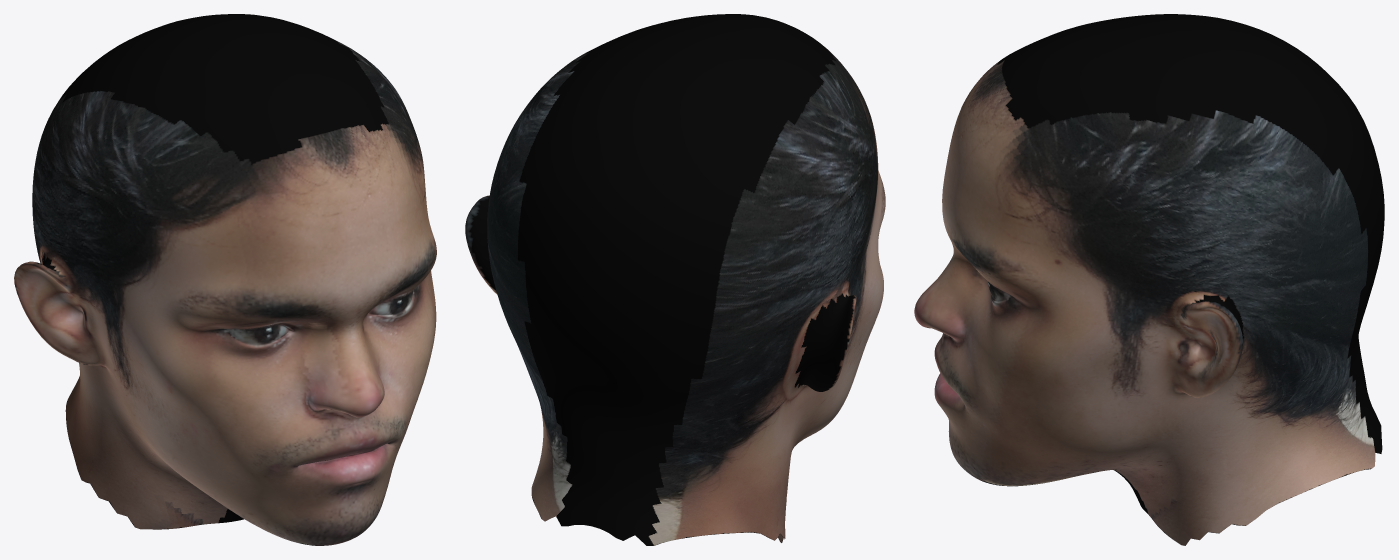
File: myface.glb
3 views of the same model, side by side, from view 1: azimuth 30°, elevation 25°; view 2: azimuth 150°, elevation 25°; view 3: azimuth 270°, elevation 25° (orthographic).
Parts seen in each view (by area): view 1: FaceBuilderHead; view 2: FaceBuilderHead; view 3: FaceBuilderHead.
Part boxes in pixels (<box>): FaceBuilderHead: <box>14,14,436,545</box>; FaceBuilderHead: <box>465,14,885,545</box>; FaceBuilderHead: <box>914,14,1384,545</box>.
Size of the model in its own units: 1.66 by 1.94 by 1.76.
Materials: 1 (1 with a texture image).
